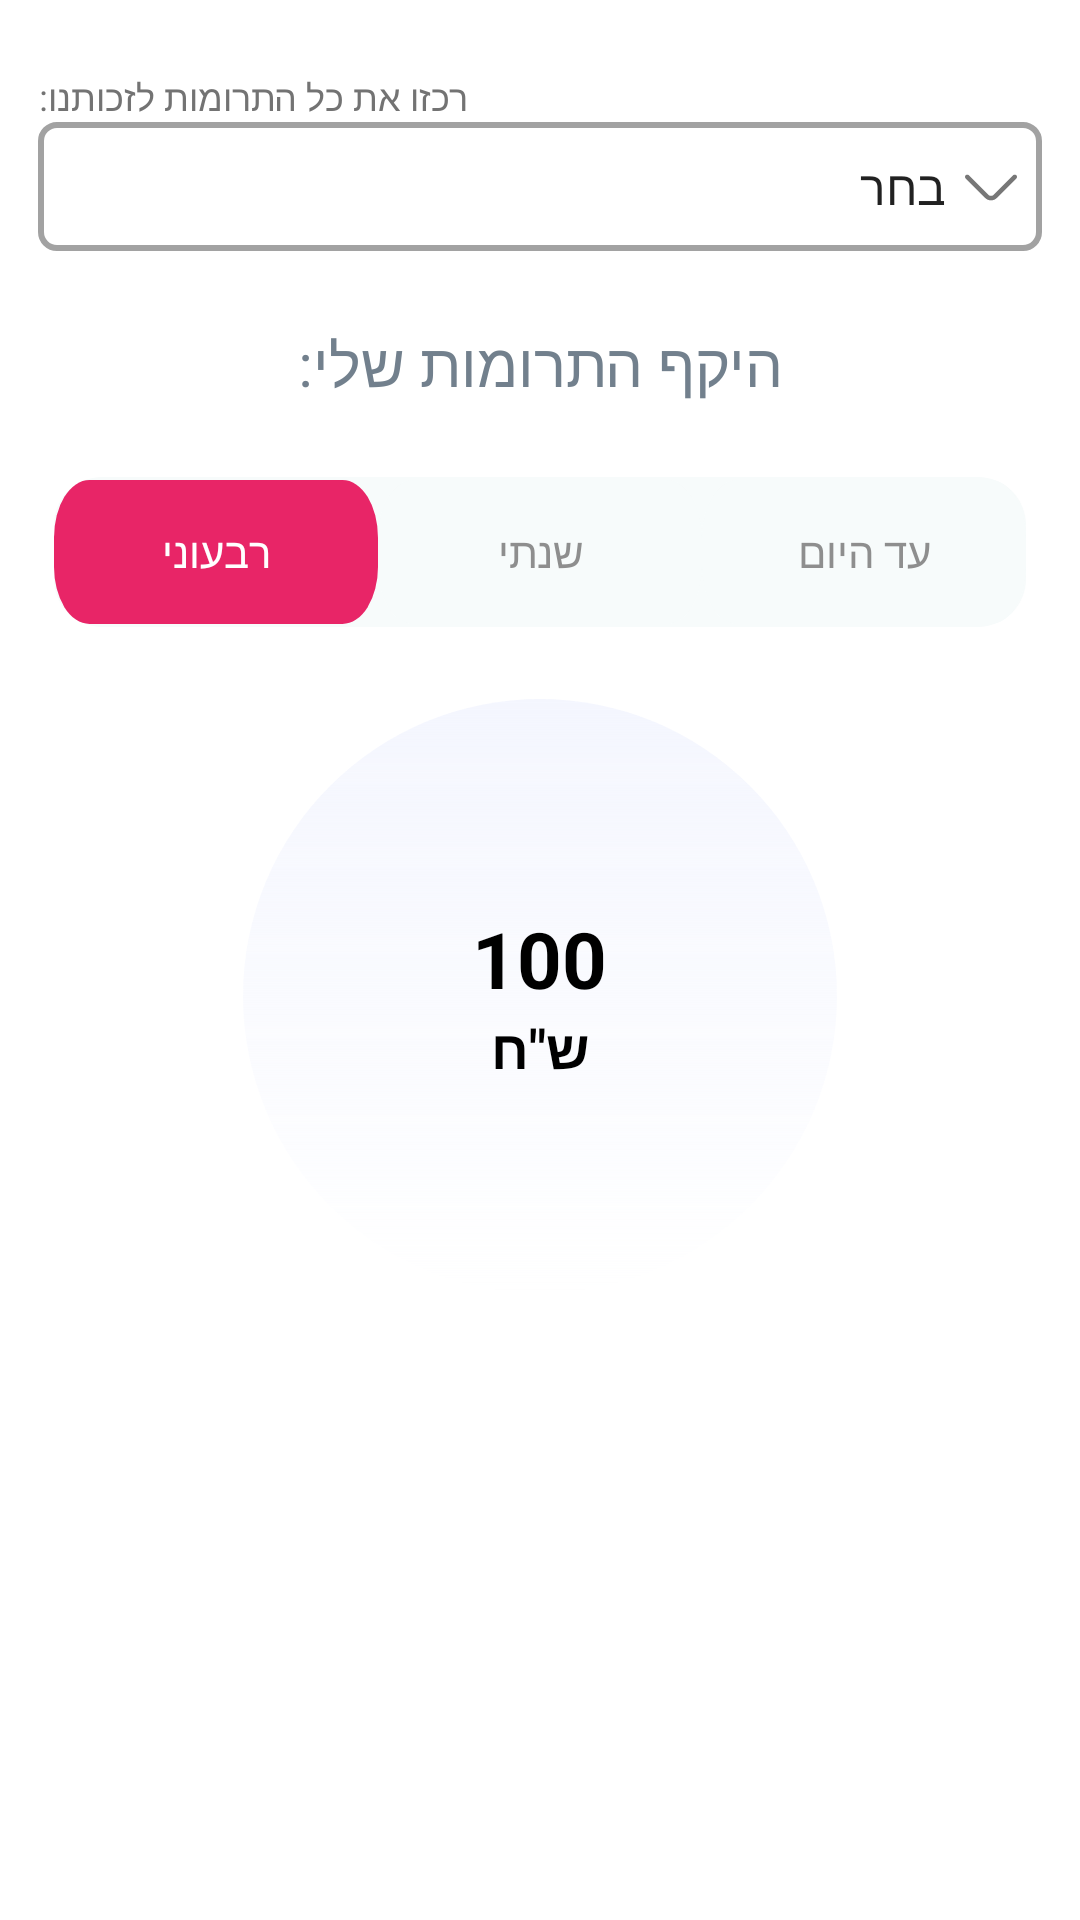

Screen size 1080w x 1920h. Icon name, then its center in pixels as point (x, y):
arrow down: point (991, 187)
